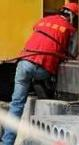hard-hat: (0, 48, 11, 73)
